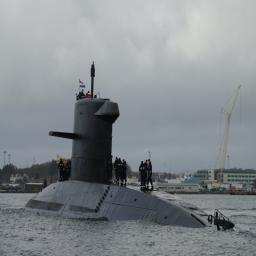submarine: (19, 98, 222, 230)
